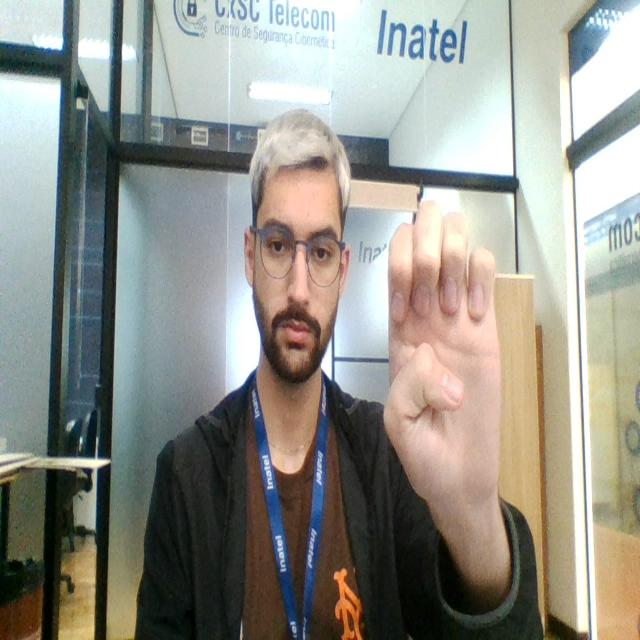E: (381, 199, 506, 510)
